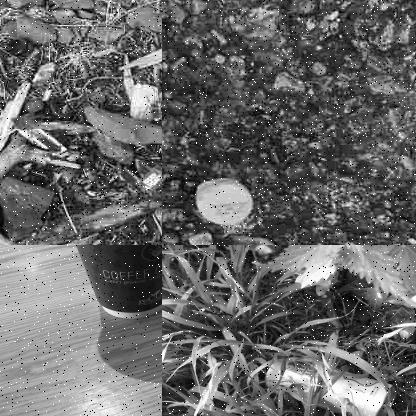plastic: (259, 356, 402, 415), (53, 245, 161, 320), (191, 178, 254, 226), (140, 163, 161, 196)
